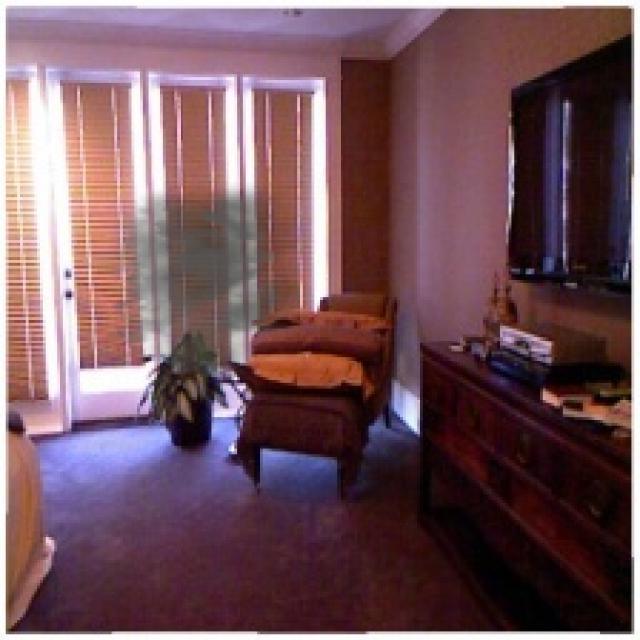Smoke: (86, 177, 300, 377)
